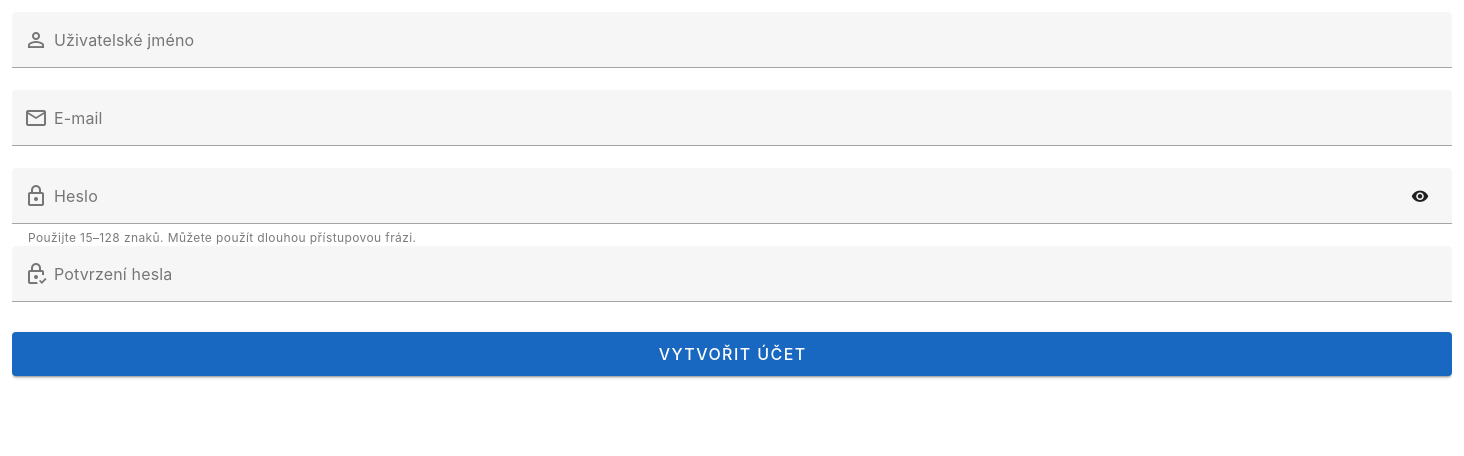
it: RegisterForm › tells when to try again after too many attempts (cs)
Step 1. Type "petr" into the field with id "username" → (750, 40), box x1=48 y1=12 x2=1452 y2=68
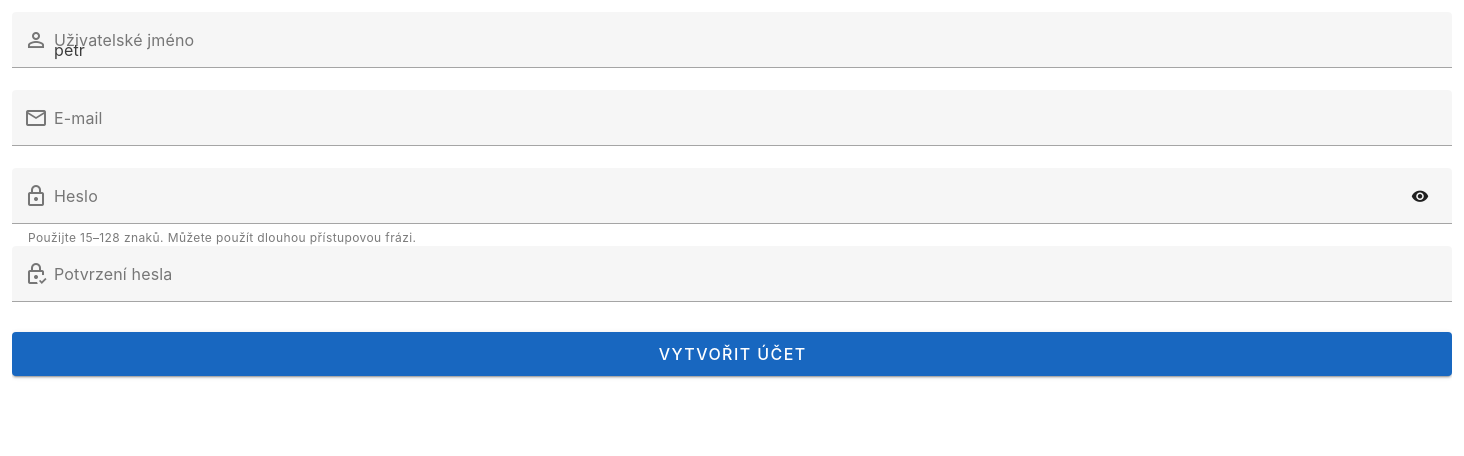
Step 2. Type "petr@example.com" into the field with id "email" → (750, 118), box x1=48 y1=90 x2=1452 y2=146
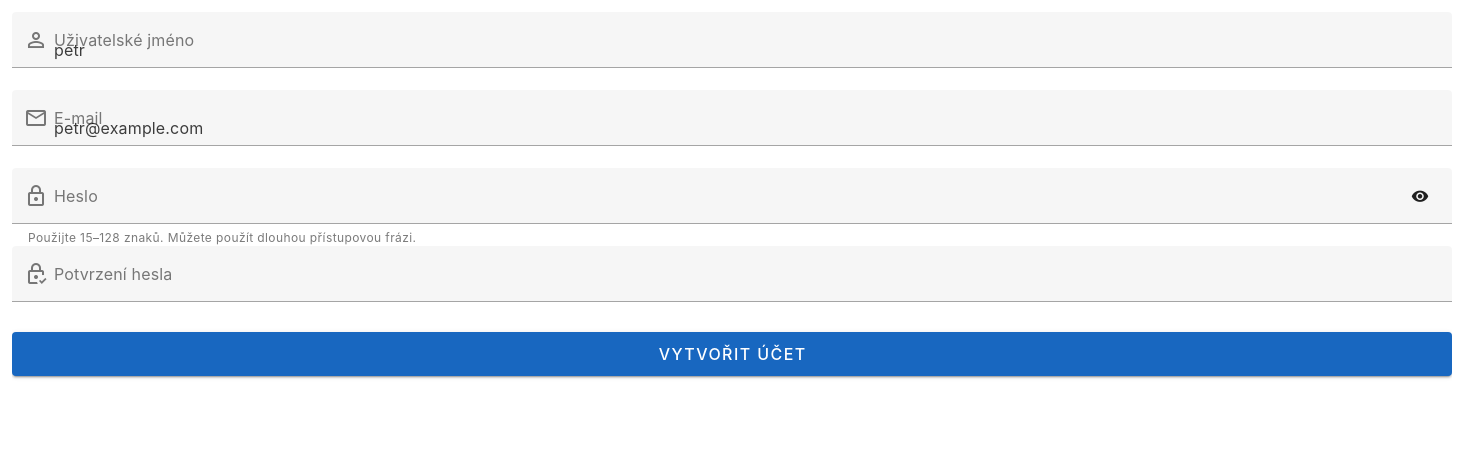
Step 3. Type "Silver meadow 58!" into the password field labelled "Heslo" → (724, 196), box x1=48 y1=168 x2=1400 y2=224
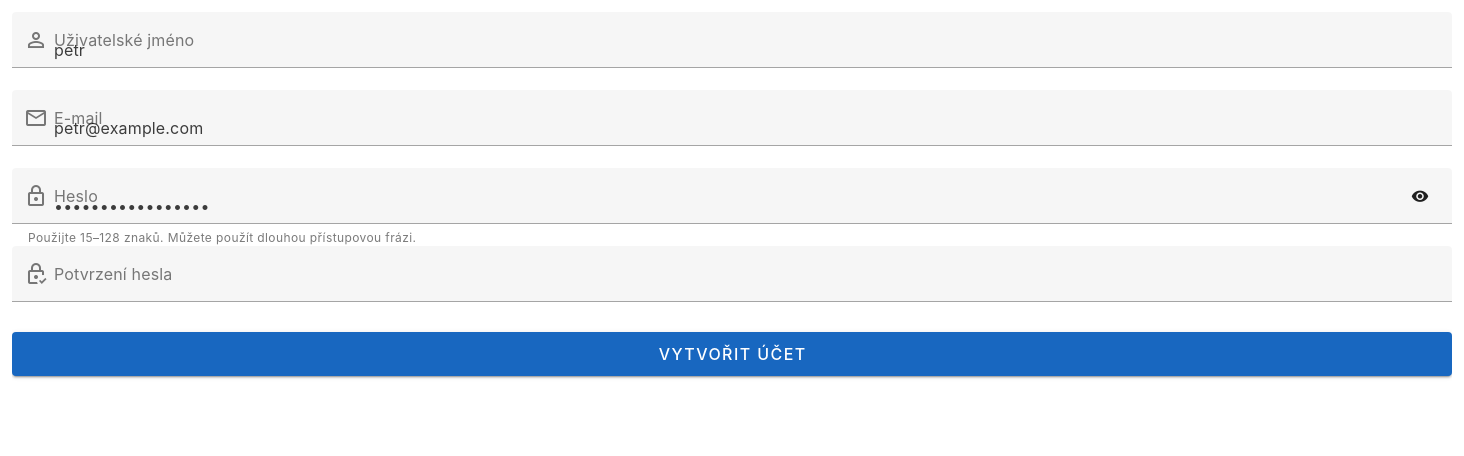
Step 4. Type "Silver meadow 58!" into the password field with id "confirmPassword" → (750, 274), box x1=48 y1=246 x2=1452 y2=302
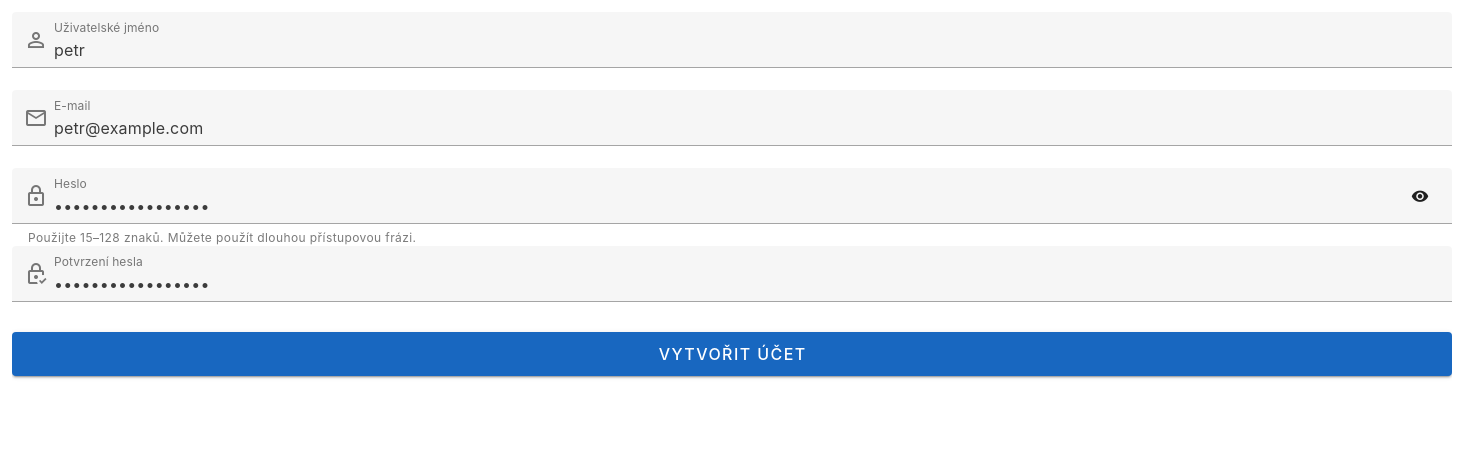
Step 5. Submit the form
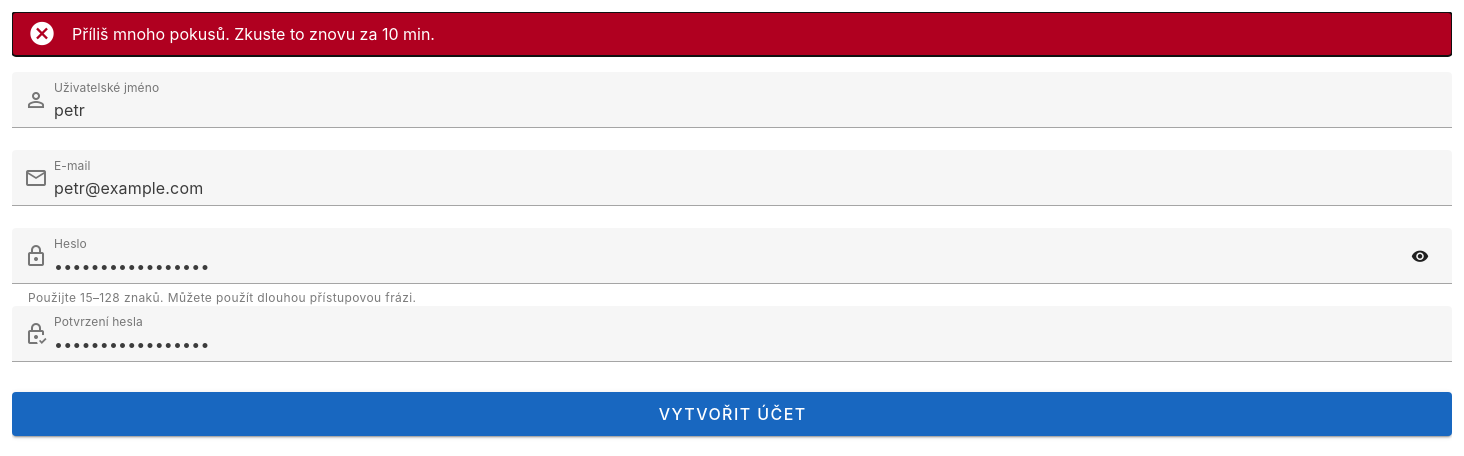
Check: the message "Příliš mnoho pokusů. Zkuste to znovu za 10 min." is shown, box x1=12 y1=12 x2=1452 y2=56
